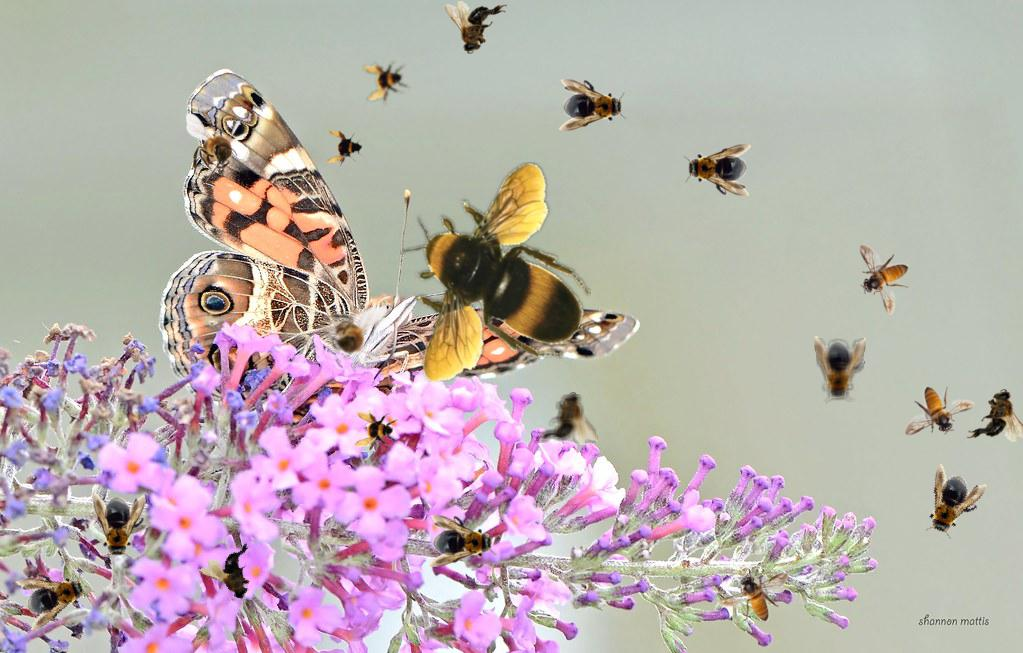Bee: (400, 162, 591, 382), (195, 535, 276, 613), (914, 463, 988, 547), (14, 558, 96, 632), (317, 307, 387, 368), (186, 113, 247, 183), (904, 386, 975, 436), (859, 244, 909, 315), (718, 572, 789, 622), (429, 515, 497, 567), (559, 79, 627, 131), (93, 493, 145, 561), (814, 336, 866, 404), (683, 144, 751, 196), (536, 392, 598, 445), (445, 1, 507, 54), (967, 389, 1023, 442), (359, 55, 413, 109), (324, 127, 368, 171), (354, 410, 398, 454)
